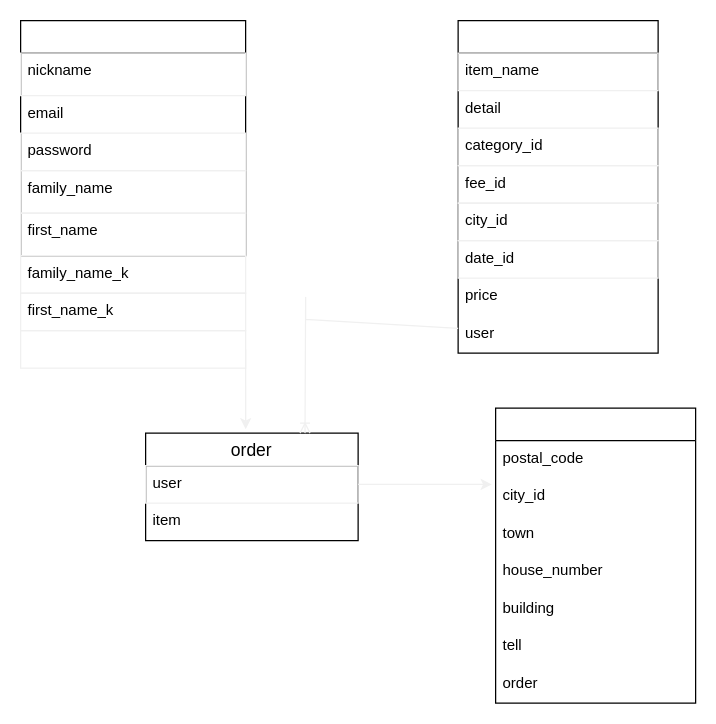
Some shapes in this 716 by 724 pixel diagram are drawn without their labels. The shapes that lost their labels are listed below. From the top down, each one's box as (x1, y1, x2, y2) in pixels, then its label:
(19, 19, 246, 256): users
(457, 19, 658, 353): items
(19, 329, 246, 368): birth
(494, 407, 696, 703): address
